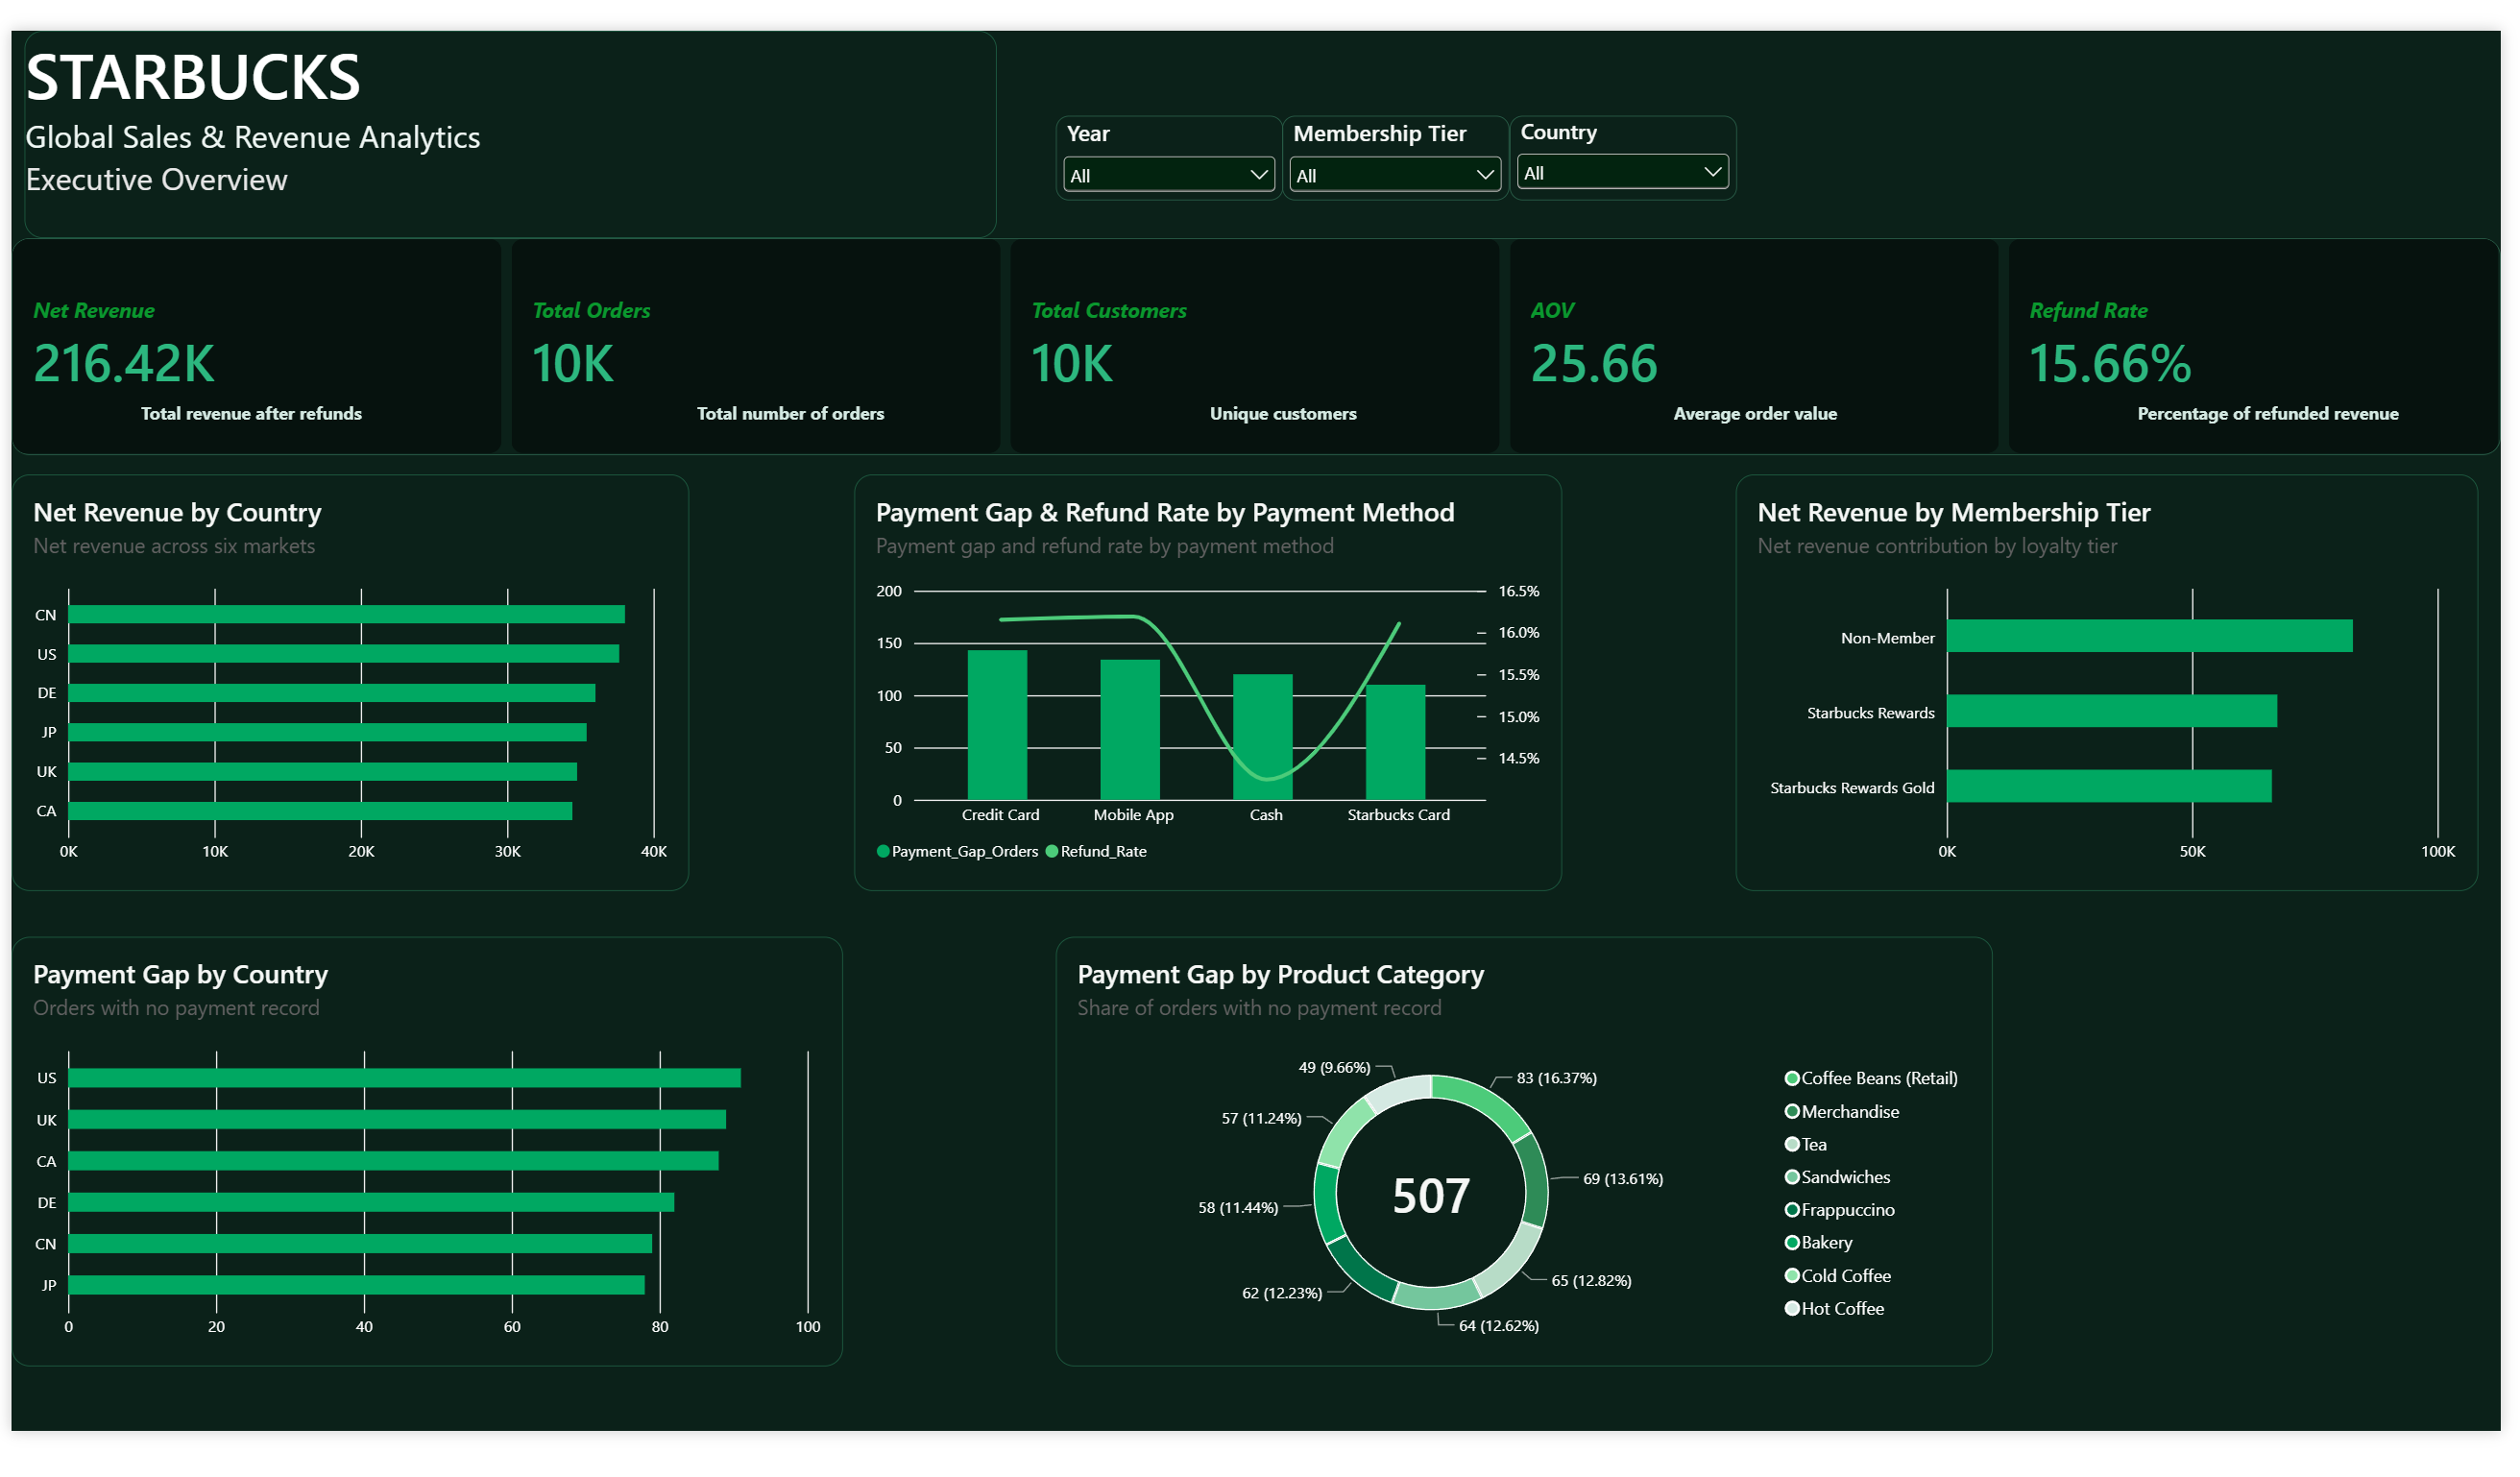

The dashboard page shown, as its layout file describes it:
{"tool":"powerbi","page":{"name":"Overview","canvas":[1920,1080],"ordinal":0},"visuals":[{"type":"textbox","box":[10,0,750,160],"z":0},{"type":"slicer","fields":{"Values":["Date.Year"]},"box":[805,65,175,65],"z":1000},{"type":"slicer","fields":{"Values":["public customers.membership_tier"]},"box":[980,65,175,65],"z":2000},{"type":"slicer","fields":{"Values":["public customers.country"]},"box":[1155,65,175,65],"z":3000},{"type":"image","box":[210,160,76.7,105],"z":4000},{"type":"cardVisual","fields":{"Data":["public orders.Net_Revenue","public orders.Total_ Orders","public orders.Total_Customers","public orders.AOV","public orders.Refund_Rate"]},"box":[0,160,1920,167.5],"z":5000},{"type":"textbox","box":[10,286,350,28.9],"z":6000},{"type":"textbox","box":[442,286,317.5,41.2],"z":7000},{"type":"textbox","box":[924,286,287.5,57.5],"z":8000},{"type":"textbox","box":[1282.5,285,327.5,167.5],"z":9000},{"type":"textbox","box":[1640,285,280,167.5],"z":10000},{"type":"clusteredBarChart","title":"Net Revenue by Country","fields":{"Category":["public customers.country"],"Y":["public orders.Net_Revenue"]},"box":[0,342.5,522.5,321.2],"z":11000},{"type":"lineClusteredColumnComboChart","title":"Payment Gap & Refund Rate by Payment Method","fields":{"Category":["public orders.payment_method"],"Y":["public orders.Payment_Gap_Orders"],"Y2":["public orders.Refund_Rate"]},"box":[650,342.5,546.2,321.2],"z":12000},{"type":"clusteredBarChart","title":"Net Revenue by Membership Tier","fields":{"Category":["public customers.membership_tier"],"Y":["public orders.Net_Revenue"]},"box":[1330,342.5,572.5,321.2],"z":13000},{"type":"clusteredBarChart","title":"Payment Gap by Country","fields":{"Category":["public customers.country"],"Y":["public orders.Payment_Gap_Orders"]},"box":[0,698.8,641.2,331.2],"z":14000},{"type":"donutChart","title":"Payment Gap by Product Category","fields":{"Category":["public orders.product_category"],"Y":["public orders.Payment_Gap_Orders"]},"box":[805,698.8,722.5,331.2],"z":15000}]}

Visuals, with their boxes on the page's 1920x1080 design canvas (x1, y1, x2, y2). These are canvas units, not pixel positions in the 2520x1477 screenshot, which may show the page scaled, cropped or inside an application window:
textbox: (10,0,760,160)
slicer - Date.Year: (805,65,980,130)
slicer - public customers.membership_tier: (980,65,1155,130)
slicer - public customers.country: (1155,65,1330,130)
image: (210,160,287,265)
cardVisual - public orders.Net_Revenue x public orders.Total_ Orders: (0,160,1920,328)
textbox: (10,286,360,315)
textbox: (442,286,760,327)
textbox: (924,286,1212,344)
textbox: (1282,285,1610,452)
textbox: (1640,285,1920,452)
"Net Revenue by Country" clusteredBarChart: (0,342,522,664)
"Payment Gap & Refund Rate by Payment Method" lineClusteredColumnComboChart: (650,342,1196,664)
"Net Revenue by Membership Tier" clusteredBarChart: (1330,342,1902,664)
"Payment Gap by Country" clusteredBarChart: (0,699,641,1030)
"Payment Gap by Product Category" donutChart: (805,699,1528,1030)
